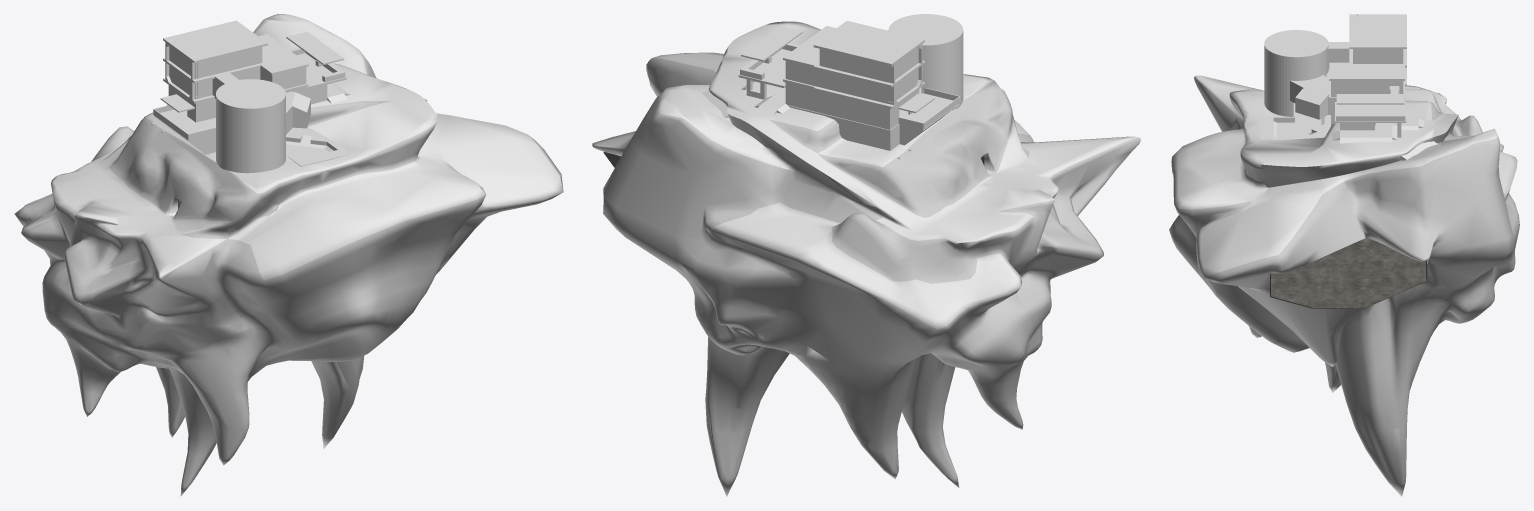
File: Main Island Colliders.fbx
3 renders of one model, left to right at view 1: azimuth 30°, elevation 25°; view 2: azimuth 150°, elevation 25°; view 3: azimuth 270°, elevation 25°, orthographic. The views are drawn at different scales.
Parts seen in each view (by area): view 1: Collider Mesh - Island.002, Collider Box.1309, Collider Box.1221, Collider Box.1587, Collider Box.1301, Collider Box.1148, Collider Box.1246, Collider Box.1312; view 2: Collider Mesh - Island.002, Collider Box.1309, Collider Box.1220, Collider Box.1219, Collider Box.1332, Collider Box.1587, Collider Box.1301, Collider Box.1246, Collider Box.1148, Collider Box.1313, Collider Box.1320; view 3: Collider Mesh - Island.002, Collider Mesh - Garage Walls.002, Collider Box.1309, Collider Box.1313, Collider Box.1246, Collider Box.1224, Collider Box.1587, Collider Box.1314, Collider Box.1355, Collider Box.1148, Collider Box.1583, Collider Box.1312 (+2 smaller).
Part boxes in pixels (x1,y1,x2,y2): Collider Mesh - Island.002: (14,14,563,496); Collider Box.1309: (163,20,267,63); Collider Box.1221: (225,47,262,79); Collider Box.1587: (286,31,344,64); Collider Box.1301: (169,46,195,98); Collider Box.1148: (217,88,283,99); Collider Box.1246: (298,54,346,89); Collider Box.1312: (260,55,308,74); Collider Mesh - Island.002: (592,21,1140,496); Collider Box.1309: (813,20,924,66); Collider Box.1220: (819,49,888,103); Collider Box.1219: (785,82,890,129); Collider Box.1332: (787,105,891,150); Collider Box.1587: (741,26,802,61); Collider Box.1301: (890,47,918,104); Collider Box.1246: (738,49,791,87); Collider Box.1148: (901,14,949,44); Collider Box.1313: (783,36,822,67); Collider Box.1320: (785,57,819,86); Collider Mesh - Island.002: (1169,75,1519,496); Collider Mesh - Garage Walls.002: (1270,238,1427,308); Collider Box.1309: (1349,14,1406,48); Collider Box.1313: (1353,63,1404,80); Collider Box.1246: (1335,102,1406,122); Collider Box.1224: (1331,81,1389,105); Collider Box.1587: (1336,94,1404,104); Collider Box.1314: (1353,44,1403,63); Collider Box.1355: (1277,103,1321,136); Collider Box.1148: (1272,31,1321,55); Collider Box.1583: (1336,114,1405,120); Collider Box.1312: (1329,62,1352,80).
Size of the model in its own units: 9419 by 9051 by 6984.
